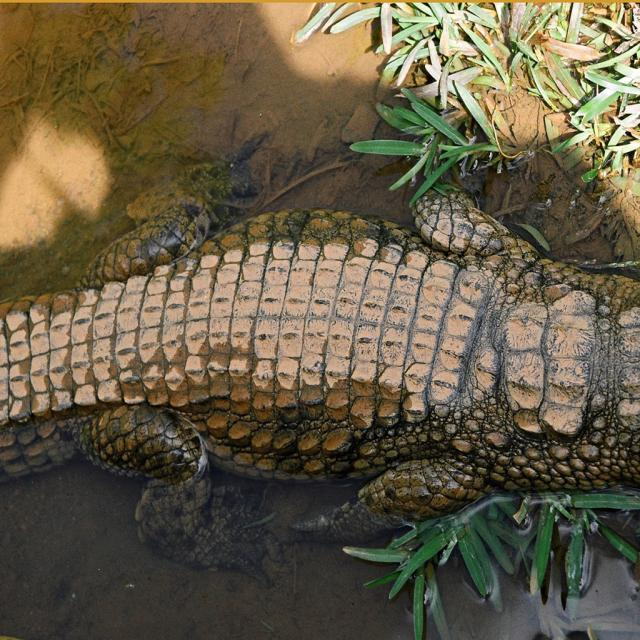crocodile: (3, 171, 639, 580)
